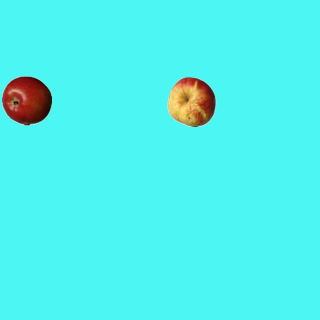Apple Braeburn: (1, 75, 51, 125)
Apple Red Yellow 1: (166, 76, 216, 126)
